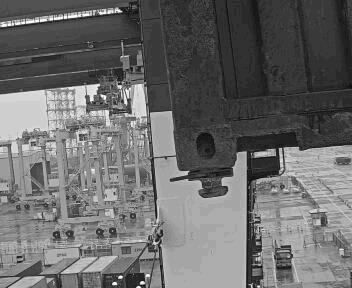twist_lock_1: (178, 161, 238, 204)
